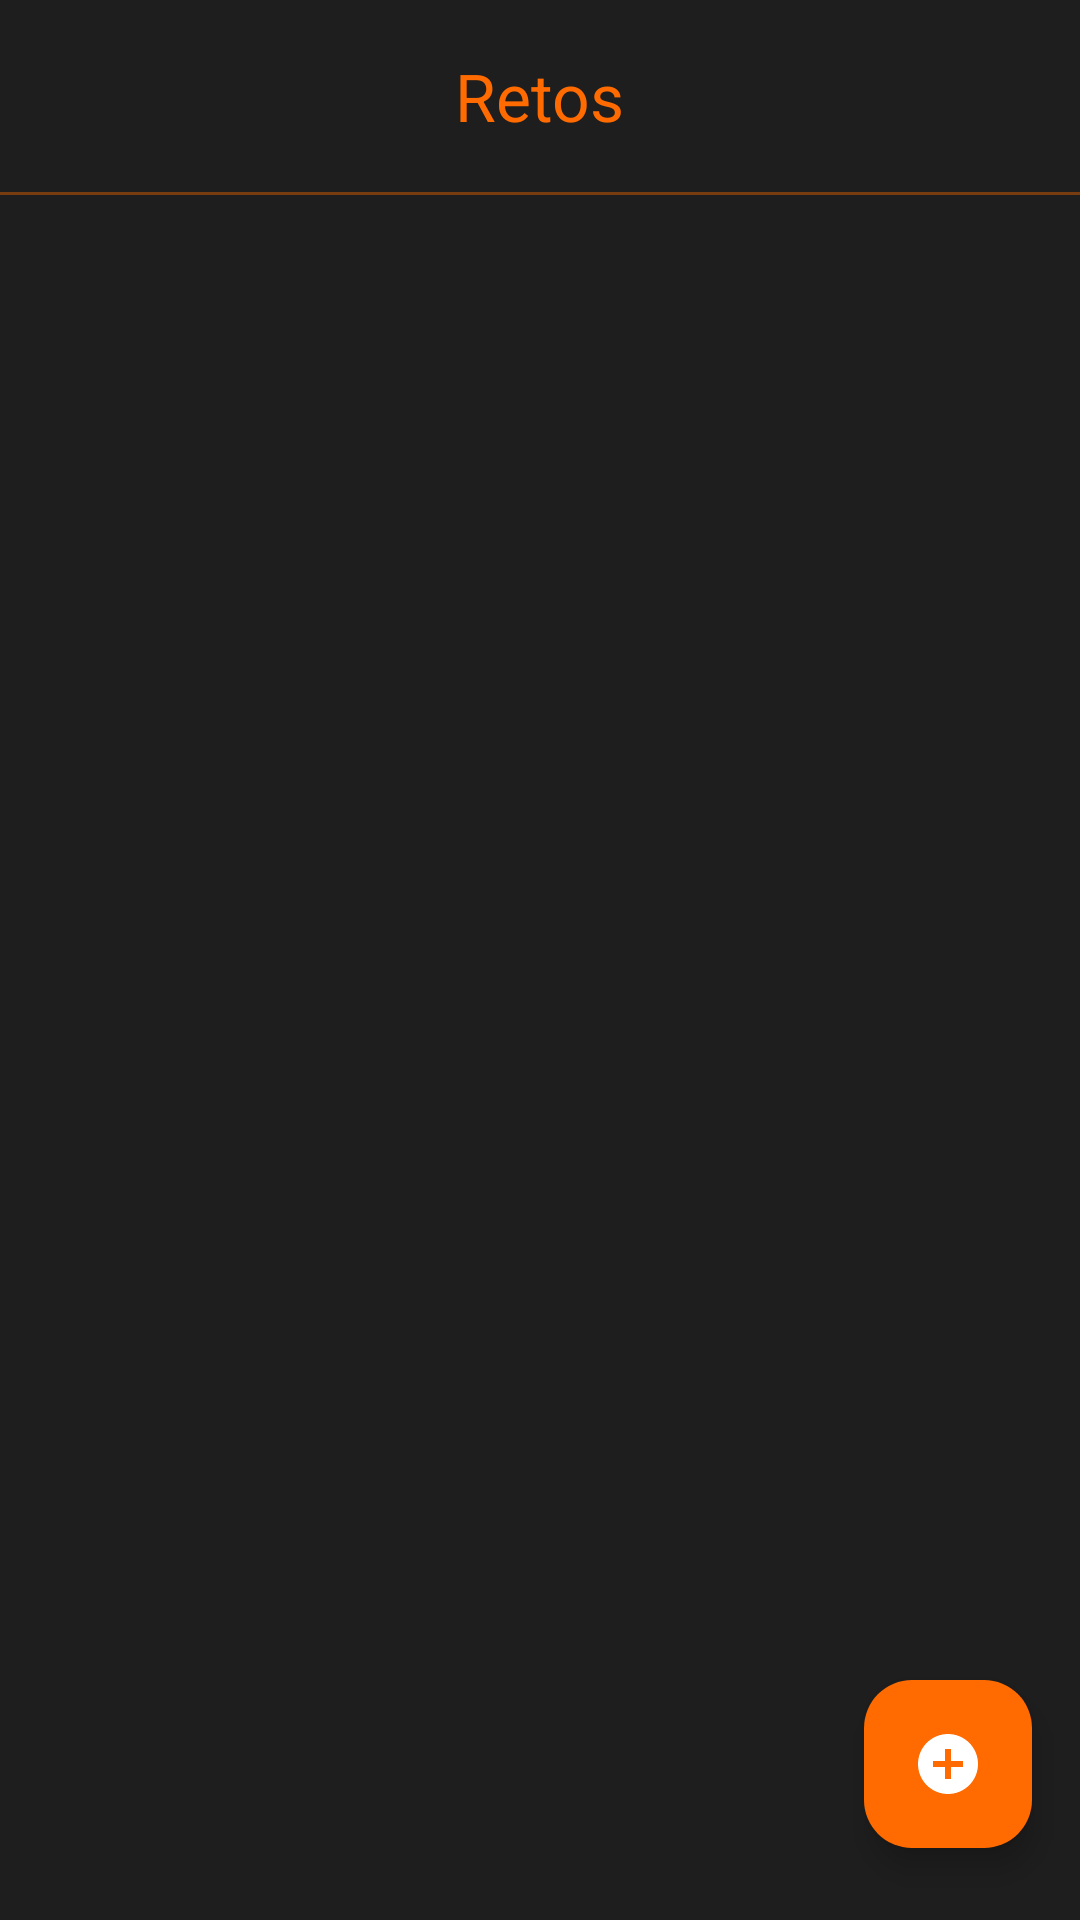

Screen size 1080 × 1920. Icon name, then its center in pixels as (x=x, y=y):
Agregar retos: (x=948, y=1764)
